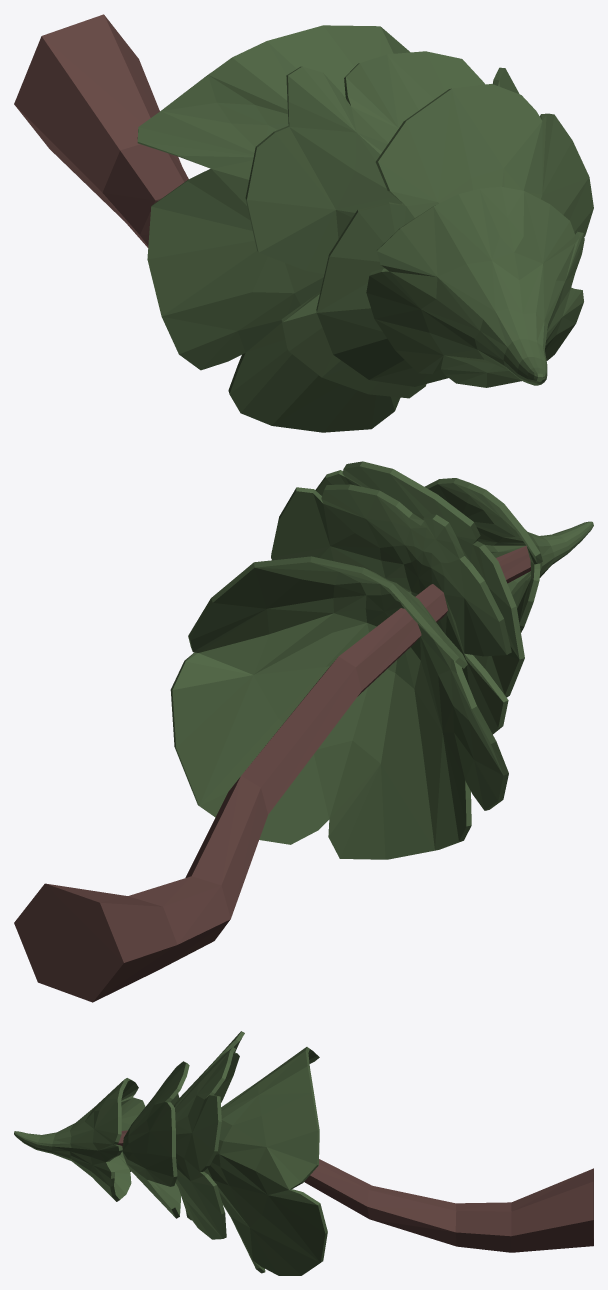
File: tree-pine-4-34-ft.obj
3 views of the same model, one above another, from view 1: azimuth 30°, elevation 25°; view 2: azimuth 150°, elevation 25°; view 3: azimuth 270°, elevation 25° (orthographic). The views are drawn at different scales.
Visible parts, largest first — view 1: tree-pine-4-34-ft; view 2: tree-pine-4-34-ft; view 3: tree-pine-4-34-ft.
Boxes of the visible parts, x1,y1,x2,y2 form: tree-pine-4-34-ft: (14,14,593,432); tree-pine-4-34-ft: (14,461,593,1002); tree-pine-4-34-ft: (14,1031,593,1275).
Bounding box in the file's own units: 153 × 170 × 408.
